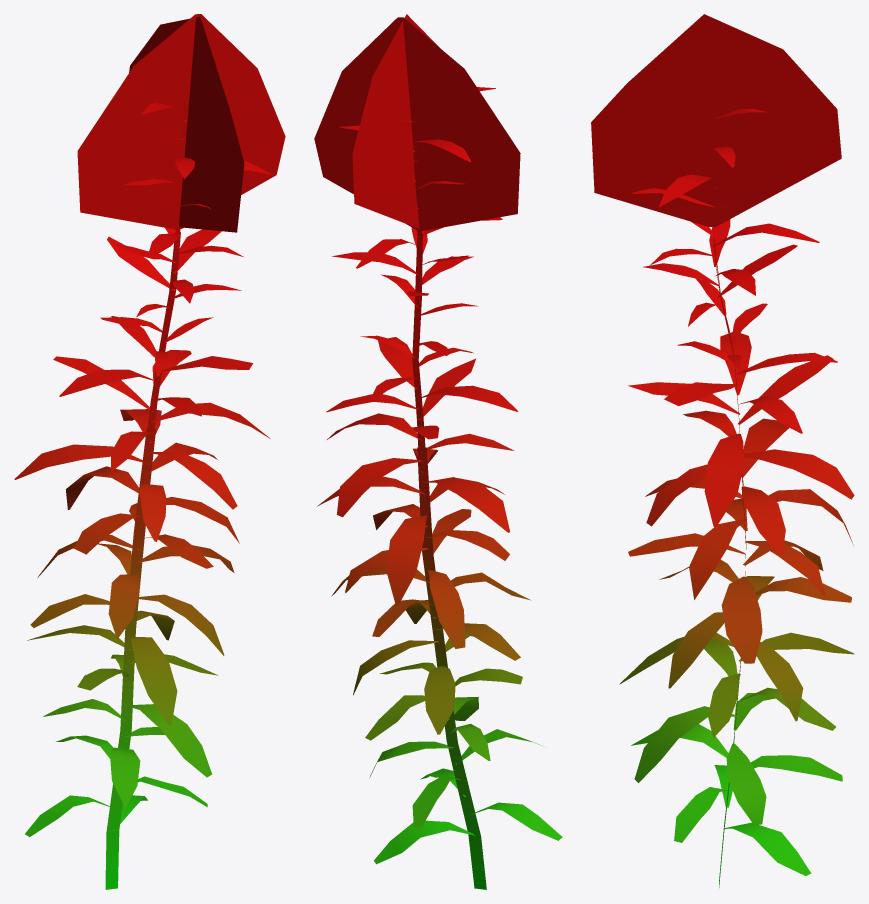
Rendered from Goldenrods_LOD5_Var1.fbx.
3 renders of one model, left to right at view 1: azimuth 30°, elevation 25°; view 2: azimuth 150°, elevation 25°; view 3: azimuth 270°, elevation 25°, orthographic. The views are drawn at different scales.
Visible parts, largest first — view 1: _bsbk_Var1_LOD5; view 2: _bsbk_Var1_LOD5; view 3: _bsbk_Var1_LOD5.
Boxes of the visible parts, <box> form: _bsbk_Var1_LOD5: <box>14,14,285,889</box>; _bsbk_Var1_LOD5: <box>314,14,562,889</box>; _bsbk_Var1_LOD5: <box>591,14,854,887</box>.
Size of the model in its own units: 53.91 by 174 by 45.58.
